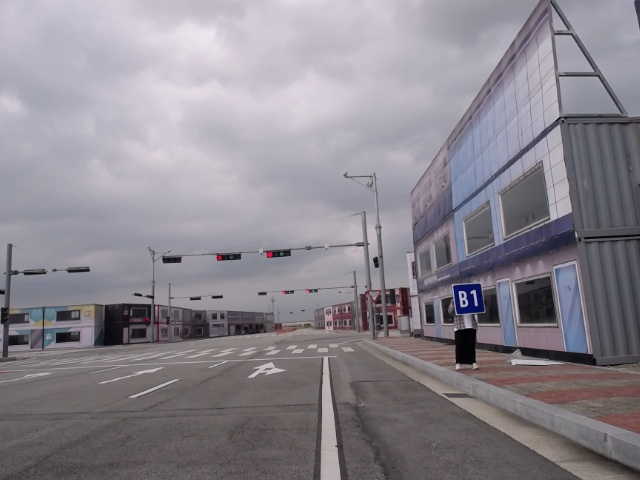delivery_b1: (452, 283, 485, 315)
left_green_4: (217, 253, 241, 261), (267, 250, 291, 257), (282, 290, 294, 294), (306, 289, 318, 293)
